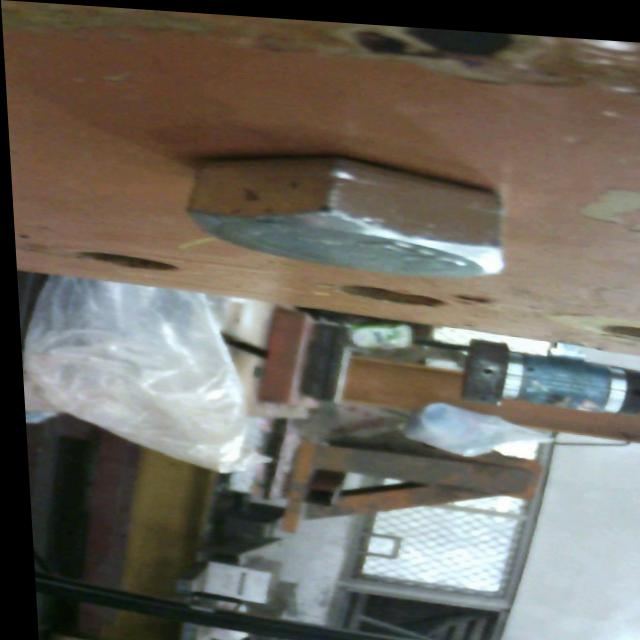Missing bolt: (78, 248, 176, 274), (342, 280, 445, 304), (600, 316, 640, 333)
Regular bolt: (178, 143, 504, 280)
